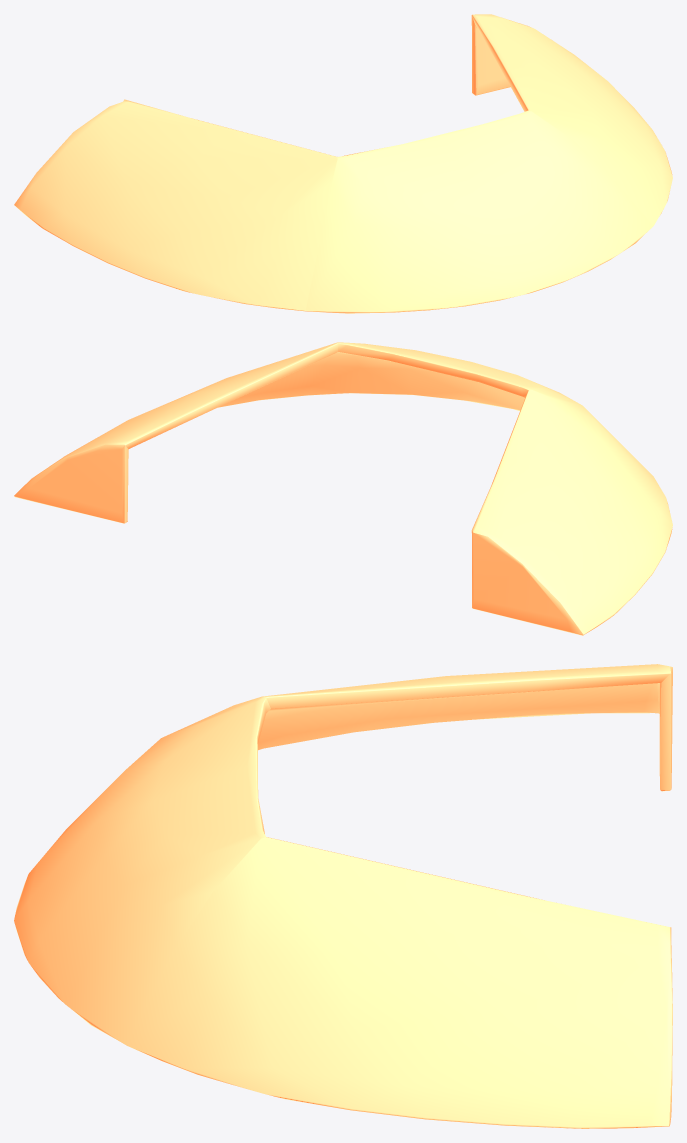
File: SM_Cabin_Roof.fbx
The picture shows the model from 3 angles, top to bottom: view 1: azimuth 30°, elevation 25°; view 2: azimuth 150°, elevation 25°; view 3: azimuth 270°, elevation 25°; orthographic projection. The views are drawn at different scales.
Visible parts, largest first — view 1: SM_Cabin_Roof_LOD0; view 2: SM_Cabin_Roof_LOD0; view 3: SM_Cabin_Roof_LOD0.
Part boxes in pixels (x1,y1,x2,y2): SM_Cabin_Roof_LOD0: [14, 14, 672, 313]; SM_Cabin_Roof_LOD0: [14, 342, 672, 635]; SM_Cabin_Roof_LOD0: [14, 664, 672, 1128].
Bounding box in the file's own units: 1263 × 841 × 217.
